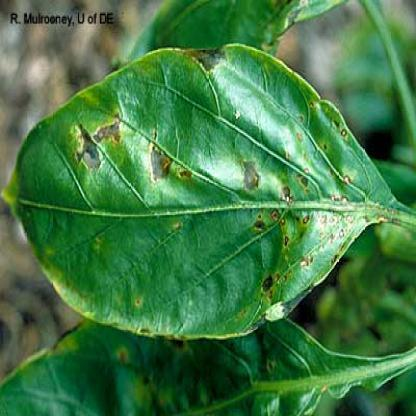Bell_pepper leaf: (2, 39, 389, 341)
